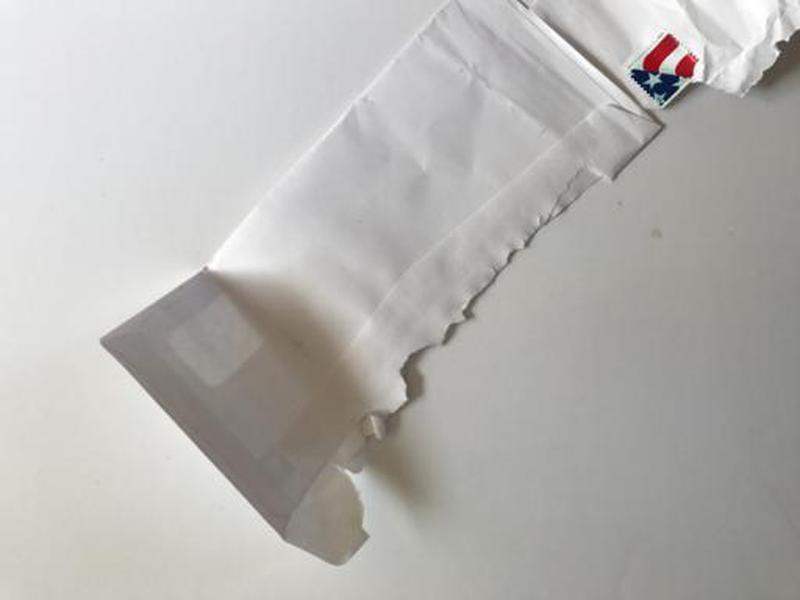paper: (87, 1, 800, 568)
